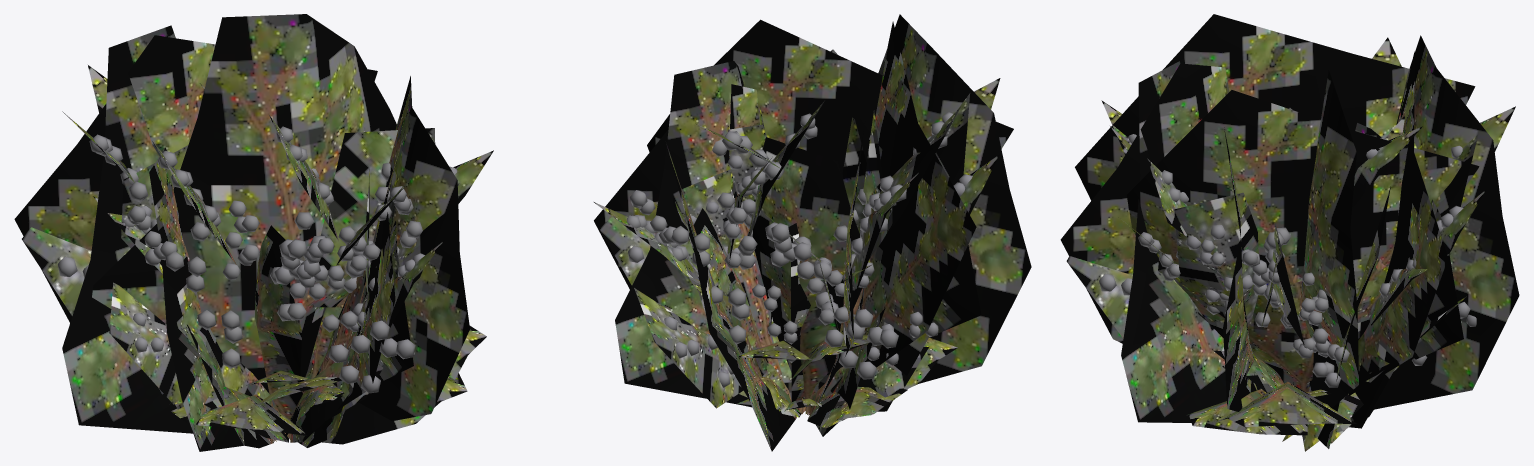
The model's file is berrybush_red_static.glb.
The picture shows the model from 3 angles, left to right: view 1: azimuth 30°, elevation 25°; view 2: azimuth 150°, elevation 25°; view 3: azimuth 270°, elevation 25°; orthographic projection. The views are drawn at different scales.
Visible parts, largest first — view 1: plant; view 2: plant; view 3: plant.
Boxes of the visible parts, left/top/right/bottom form: plant: left=14, top=14, right=493, bottom=451; plant: left=594, top=14, right=1031, bottom=451; plant: left=1060, top=14, right=1519, bottom=451.
Size of the model in its own units: 1.03 by 0.9754 by 1.07.
Materials: 1 (1 with a texture image).
